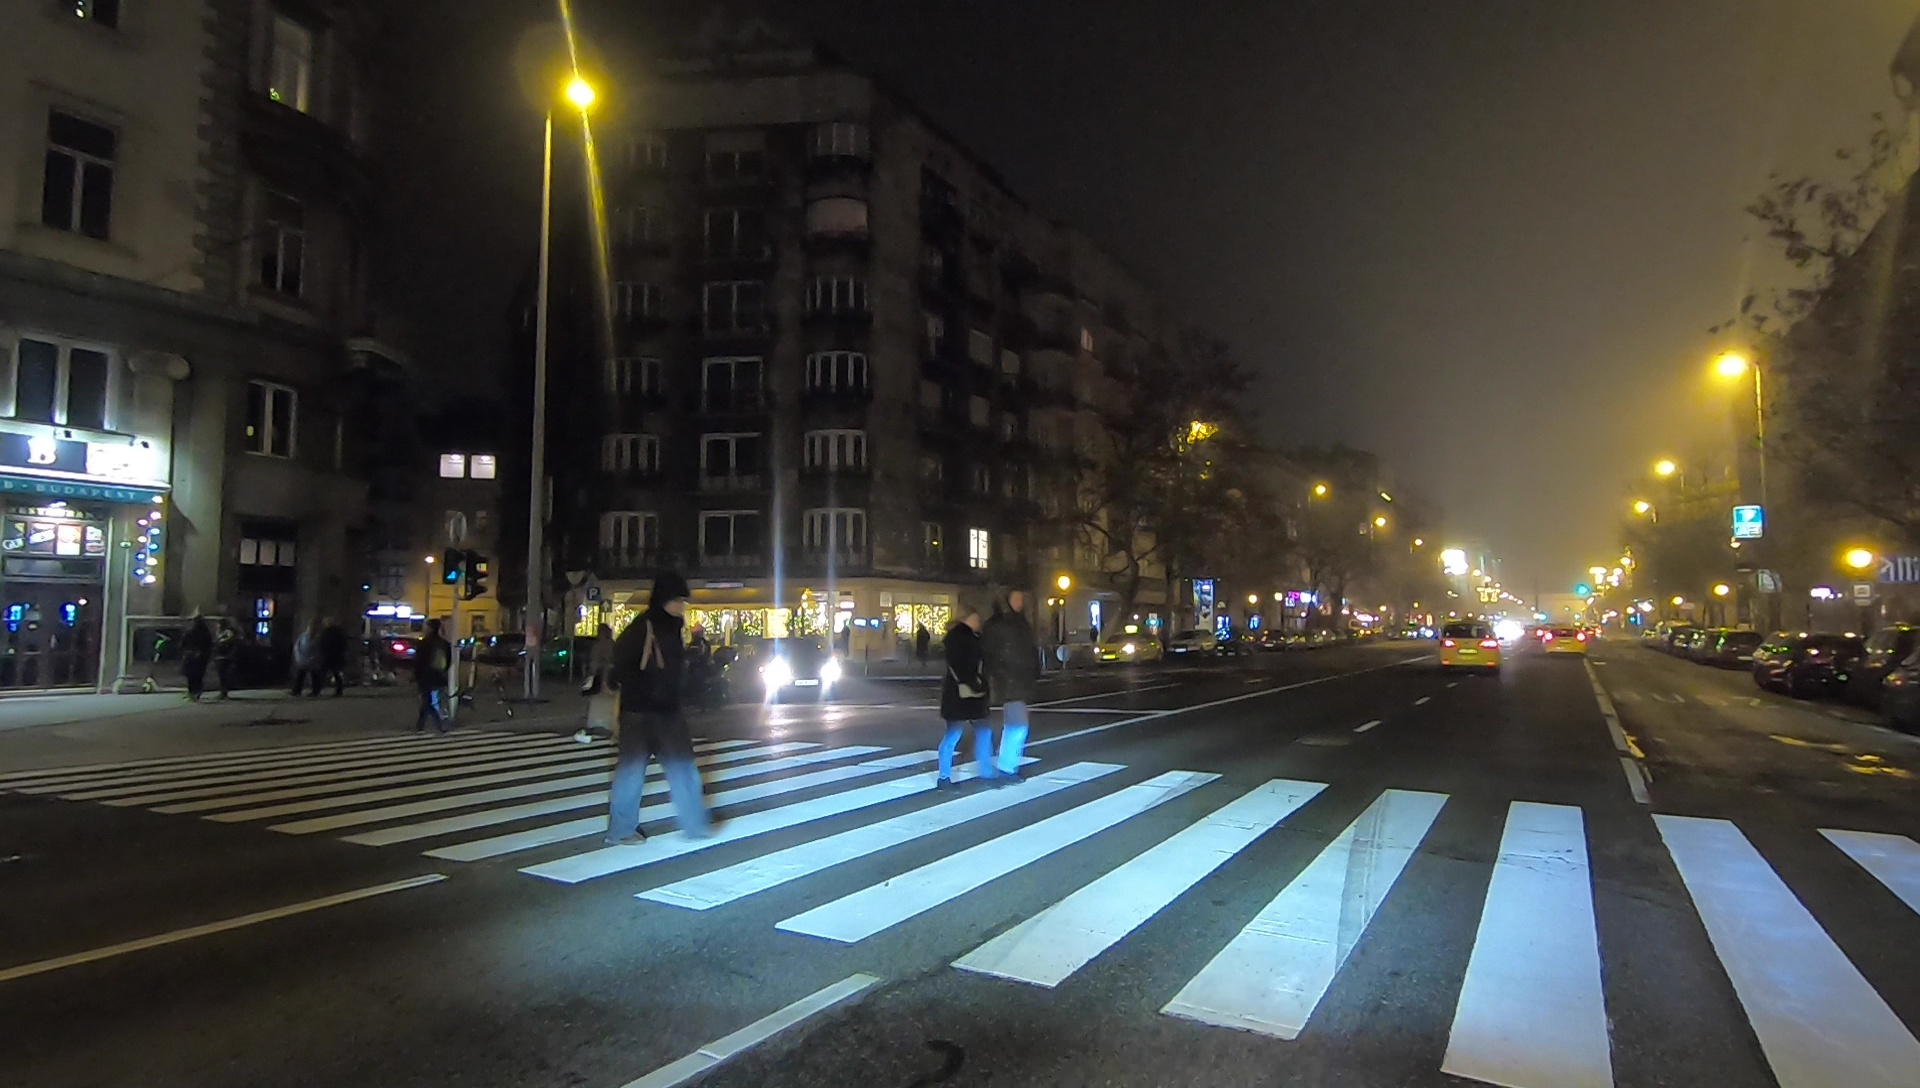person: (614, 574, 719, 845), (943, 589, 999, 791), (986, 584, 1038, 782), (578, 619, 634, 750), (414, 621, 452, 730), (580, 617, 619, 711), (291, 606, 323, 695), (317, 613, 349, 697), (212, 610, 241, 700), (184, 597, 210, 697)
